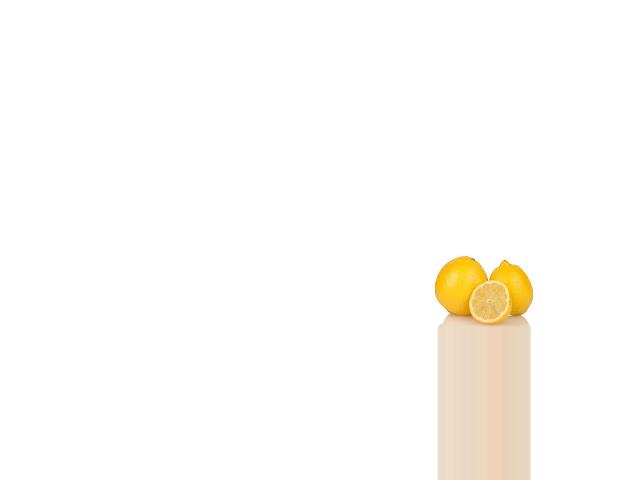lemon: (488, 259, 536, 321)
